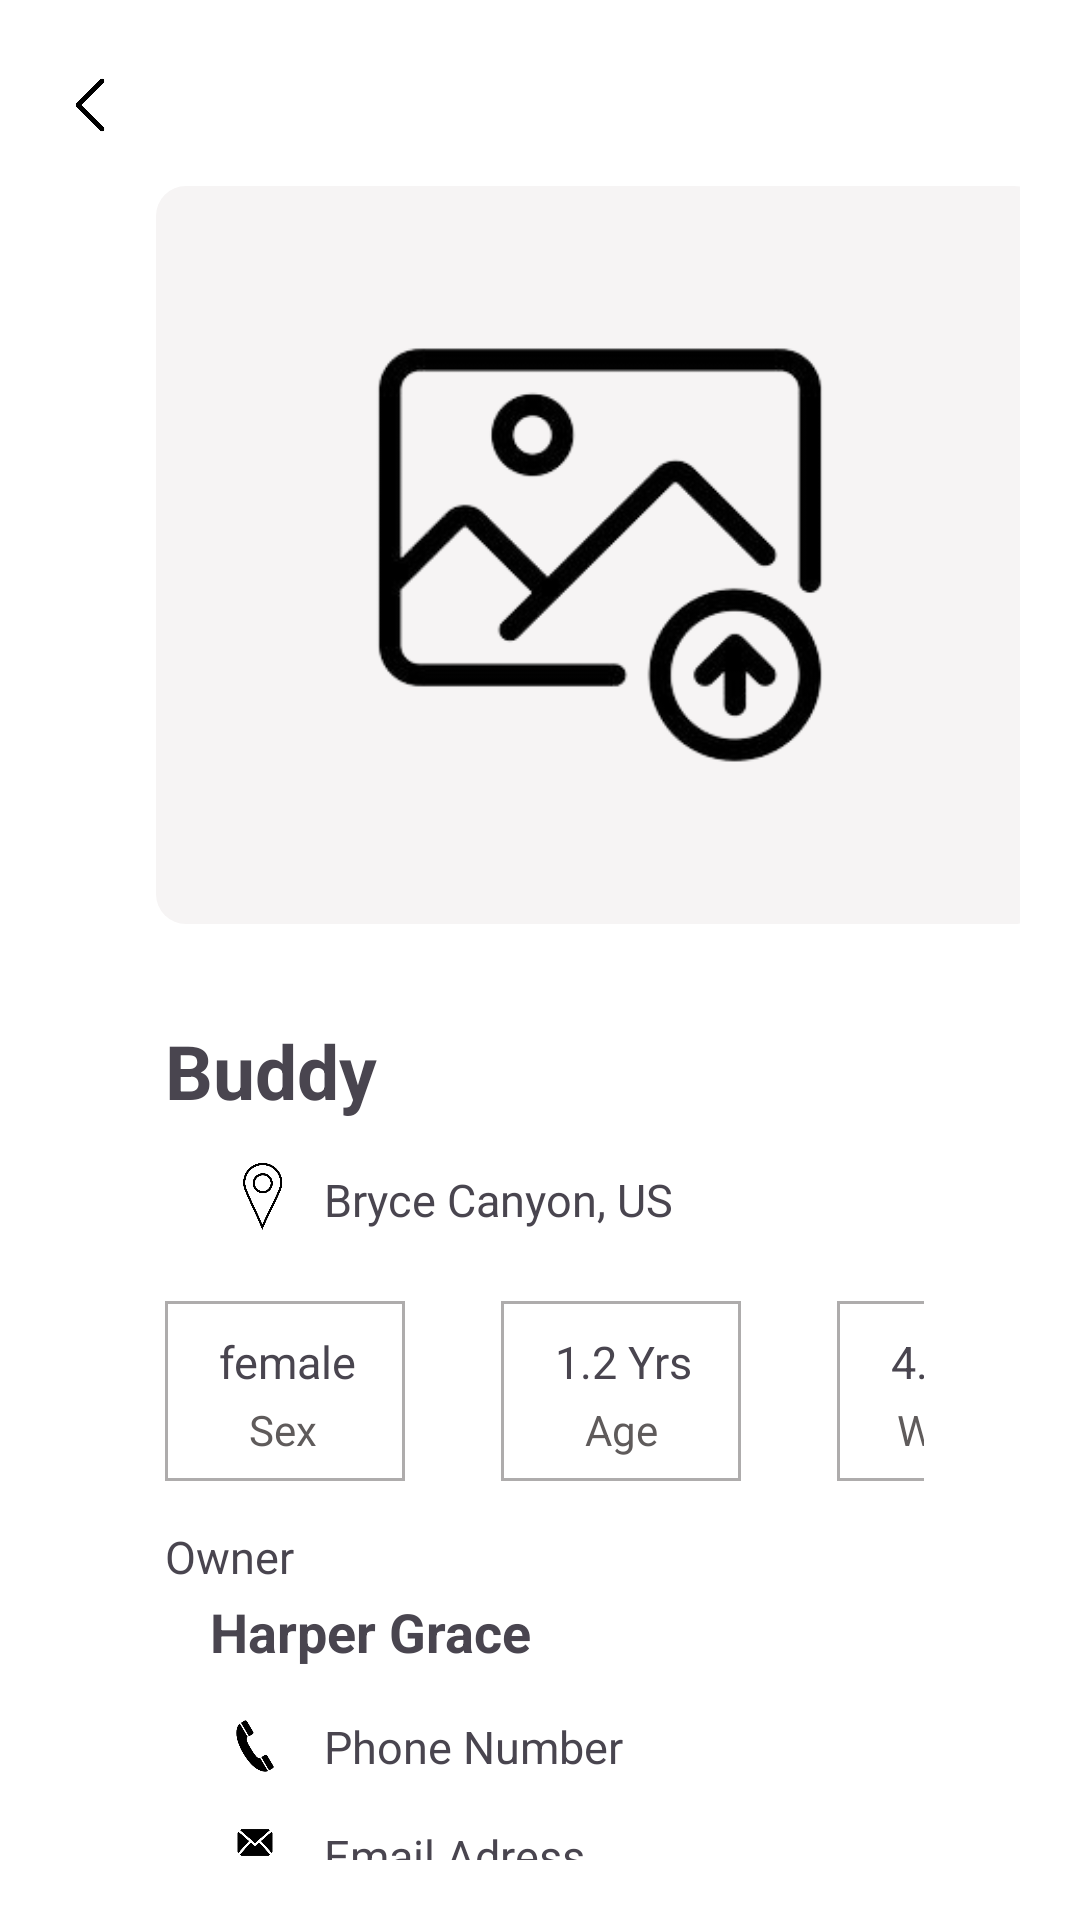

Screen size 1080x1920. Icon name, then its box in pixels as (x1, y1, x2, y2):
back: (76, 79, 104, 131)
